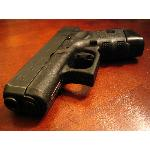Pistol: (3, 26, 144, 118)
